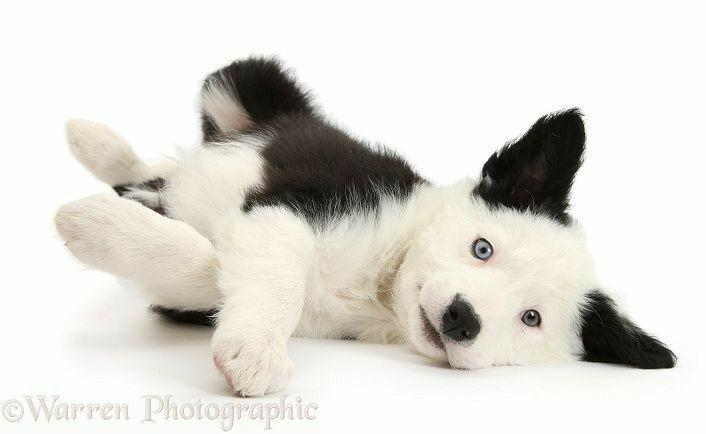puppy-dog: (57, 53, 683, 399)
